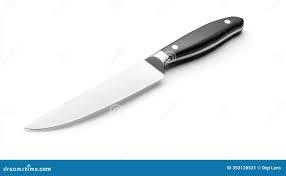Knife: (23, 15, 244, 131)
